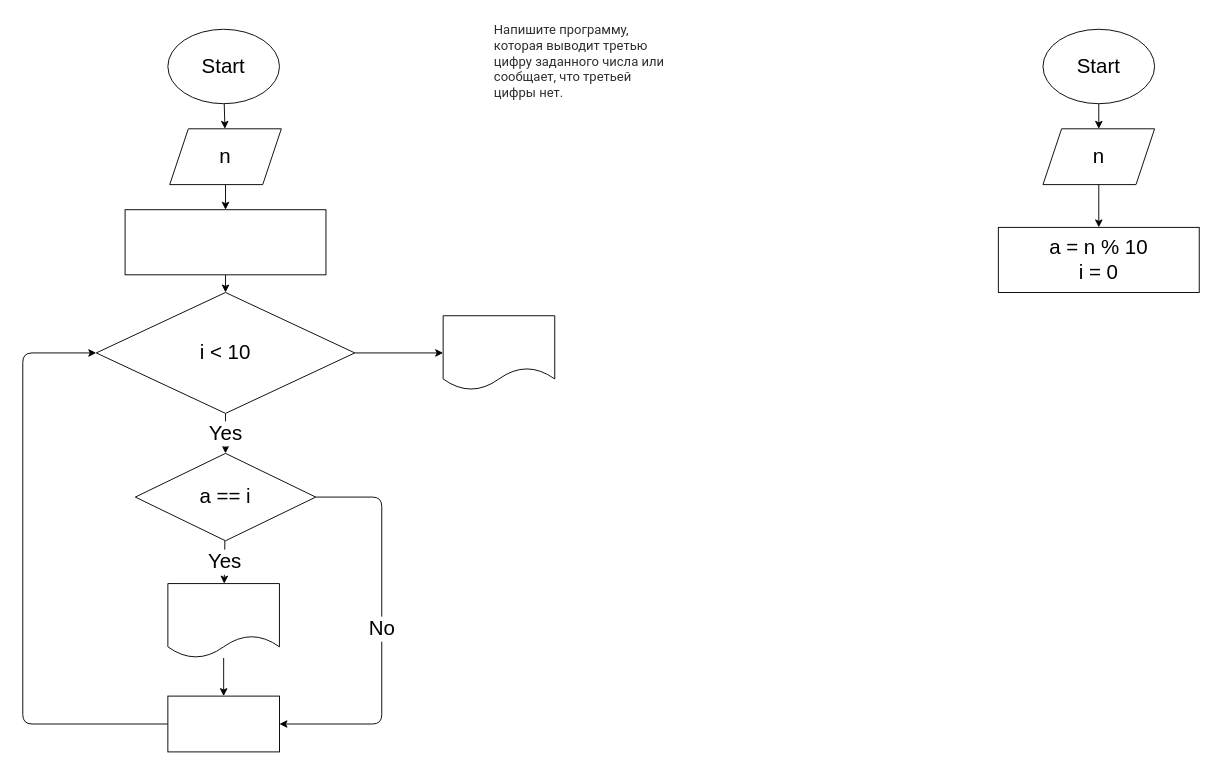
Some shapes in this 1216 by 768 pixel diagram are drawn without their labels. The shapes that lost their labels are listed below. From the top down, each one's box as (x1, y1, x2, y2) in pixels, then its label:
(124, 209, 326, 275): a = n % 100 i = 0
(442, 315, 555, 390): Нет такого числа
(167, 583, 279, 658): Вывод a
(167, 695, 279, 752): i++
